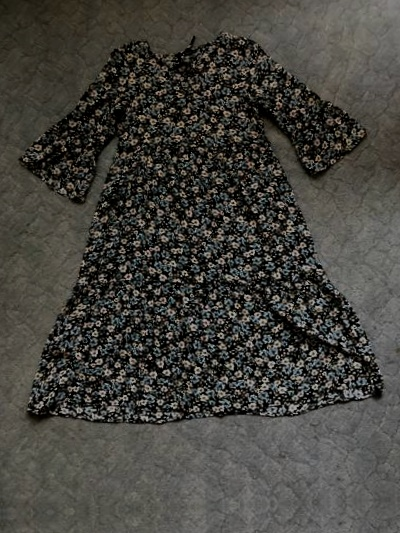Dress: (0, 5, 398, 437)
